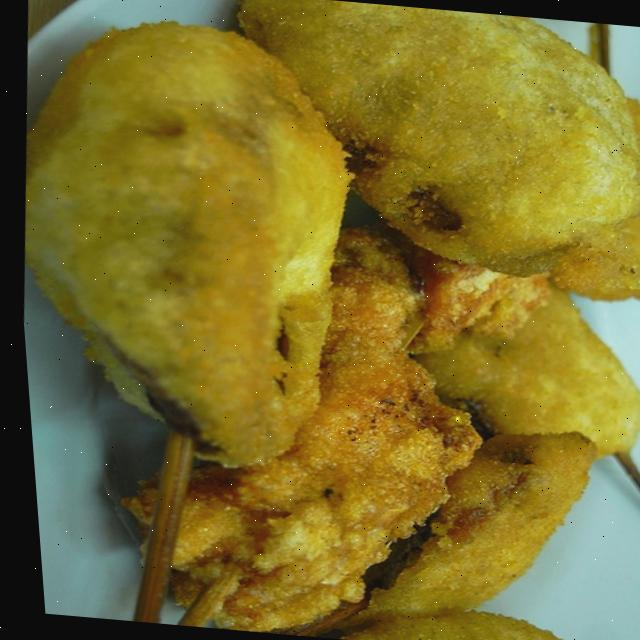汤锅炖物: (467, 114, 640, 253)
熟制海鲜: (161, 0, 525, 246)
面条主食: (386, 300, 631, 492)
